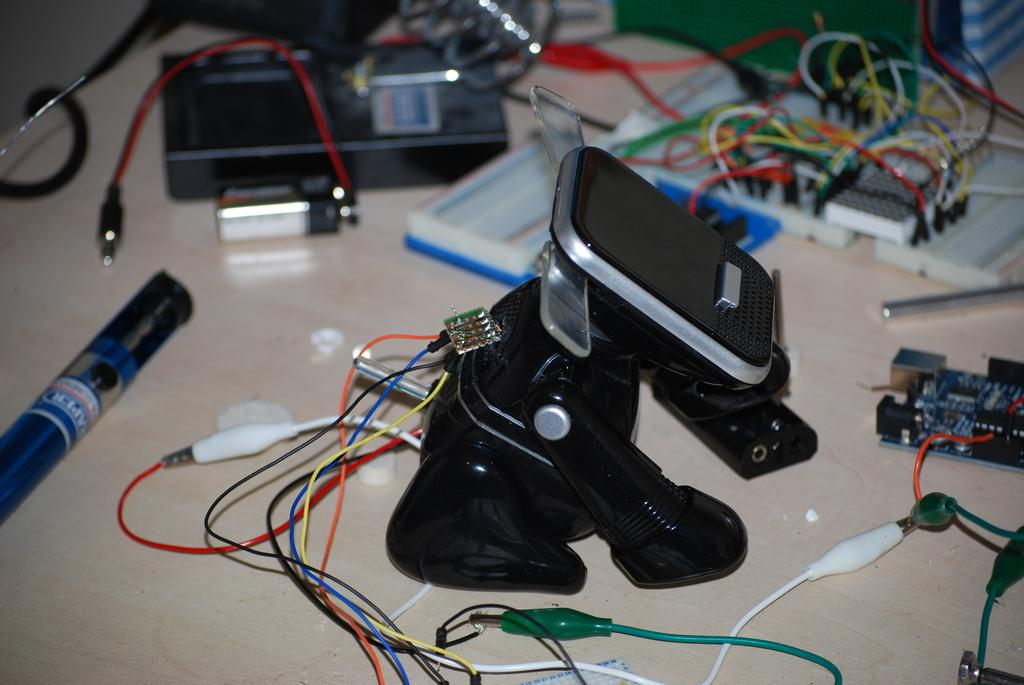pen: (0, 269, 209, 533)
